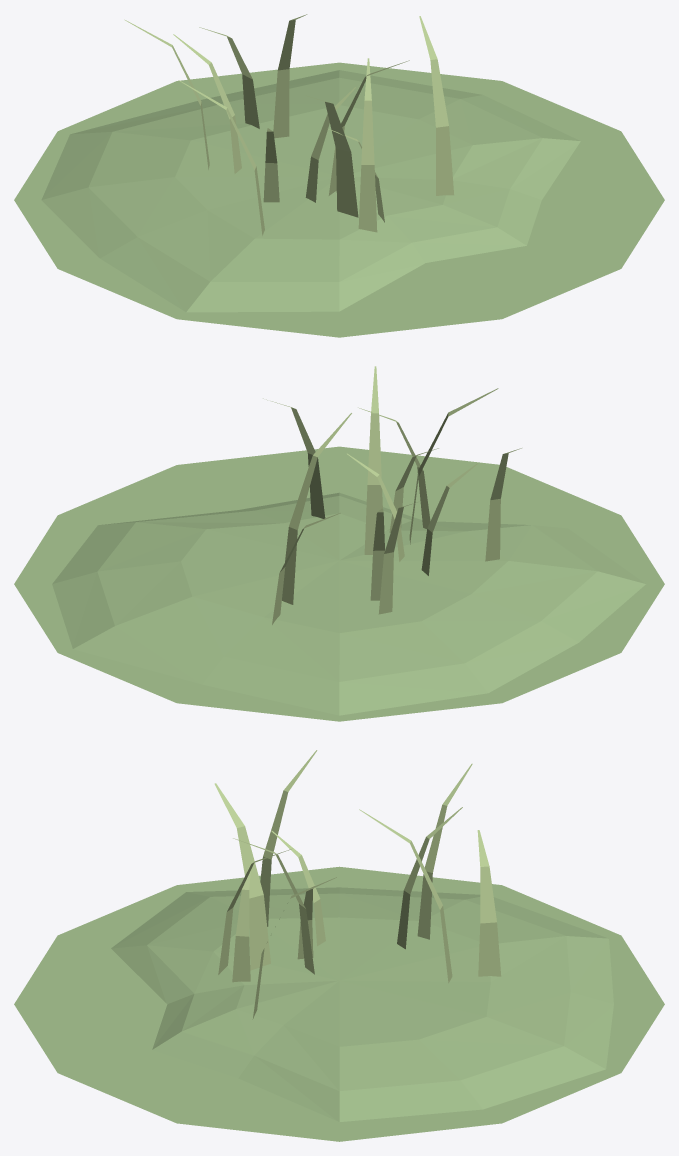
The model's file is grass_patch.glb.
3 views of the same model, one above another, from view 1: azimuth 30°, elevation 25°; view 2: azimuth 150°, elevation 25°; view 3: azimuth 270°, elevation 25° (orthographic).
Visible parts, largest first — view 1: grass-patch; view 2: grass-patch; view 3: grass-patch.
Boxes of the visible parts, x1,y1,x2,y2 form: grass-patch: [14, 14, 664, 337]; grass-patch: [14, 366, 664, 721]; grass-patch: [14, 750, 664, 1141].
Size of the model in its own units: 1.49 by 0.4636 by 1.49.
